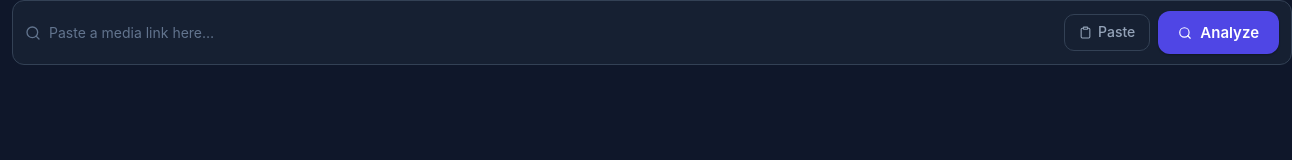
Test: UrlInput — invalid URL › shows a validation error for a non-http/https protocol
Type "ftp://example.com/file.mp4" into the field named "media url".
click(553, 33); type("ftp://example.com/file.mp4")  # box left=49, top=23, right=1056, bottom=43
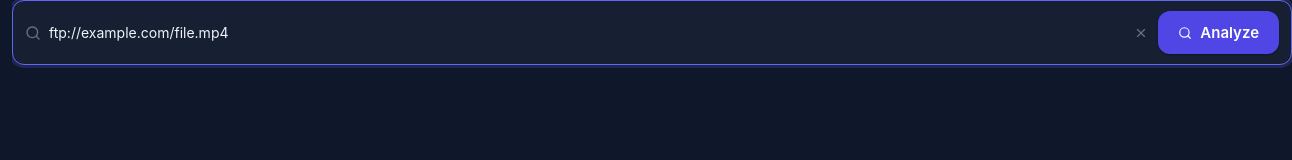
Click the button "Analyze".
click(1219, 33)  # box left=1158, top=11, right=1279, bottom=54
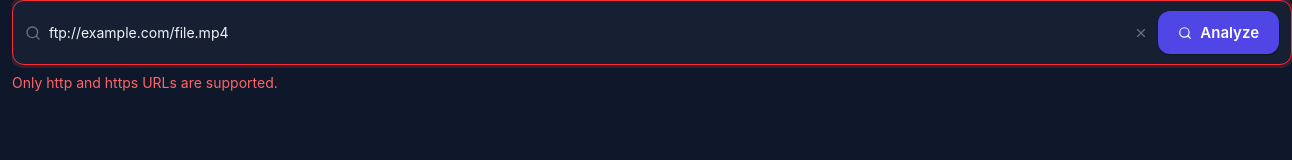
Now the message shows "http", box left=12, top=74, right=278, bottom=91
